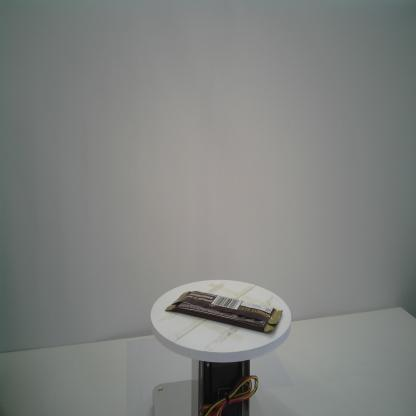Chocolate: (164, 290, 284, 334)
